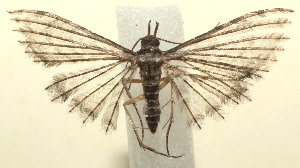Alucitidae: (1, 6, 292, 157)
moth: (2, 8, 294, 159)
